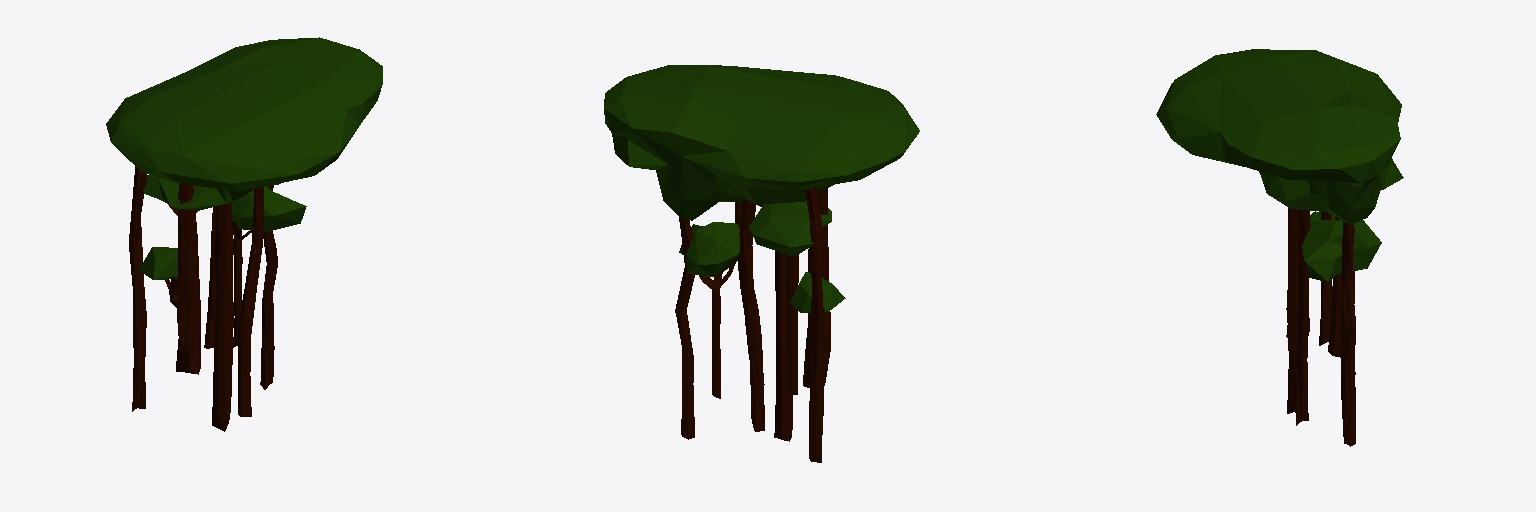
Rendered from arbol1.obj.
3 views of the same model, side by side, from view 1: azimuth 30°, elevation 25°; view 2: azimuth 150°, elevation 25°; view 3: azimuth 270°, elevation 25° (orthographic).
Visible parts, largest first — view 1: Mball.010, Cylinder.009, Cylinder.010, Cylinder.006, Cylinder.007, Cylinder.011, Cylinder.008, Cylinder.012; view 2: Mball.010, Cylinder.006, Cylinder.010, Cylinder.011, Cylinder.012, Cylinder.013, Cylinder.009, Cylinder.008, Cylinder.007; view 3: Mball.010, Cylinder.011, Cylinder.007, Cylinder.010, Cylinder.012, Cylinder.013.
Part boxes in pixels (bbox=[...]): Mball.010: bbox=[106, 37, 382, 279]; Cylinder.009: bbox=[165, 184, 200, 374]; Cylinder.010: bbox=[212, 202, 233, 431]; Cylinder.006: bbox=[129, 166, 146, 411]; Cylinder.007: bbox=[238, 187, 263, 416]; Cylinder.011: bbox=[260, 185, 277, 389]; Cylinder.008: bbox=[232, 221, 251, 347]; Cylinder.012: bbox=[204, 207, 215, 348]; Mball.010: bbox=[604, 65, 919, 312]; Cylinder.006: bbox=[805, 188, 824, 462]; Cylinder.010: bbox=[774, 251, 792, 441]; Cylinder.011: bbox=[675, 217, 694, 439]; Cylinder.012: bbox=[739, 199, 764, 393]; Cylinder.013: bbox=[783, 253, 798, 394]; Cylinder.009: bbox=[803, 189, 830, 387]; Cylinder.008: bbox=[699, 261, 735, 398]; Cylinder.007: bbox=[735, 202, 764, 431]; Mball.010: bbox=[1156, 49, 1403, 281]; Cylinder.011: bbox=[1341, 221, 1355, 446]; Cylinder.007: bbox=[1296, 210, 1309, 425]; Cylinder.010: bbox=[1287, 208, 1298, 413]; Cylinder.012: bbox=[1328, 217, 1342, 357]; Cylinder.013: bbox=[1319, 212, 1331, 345].
Bounding box in the file's own units: 29.9 × 36.55 × 23.85.